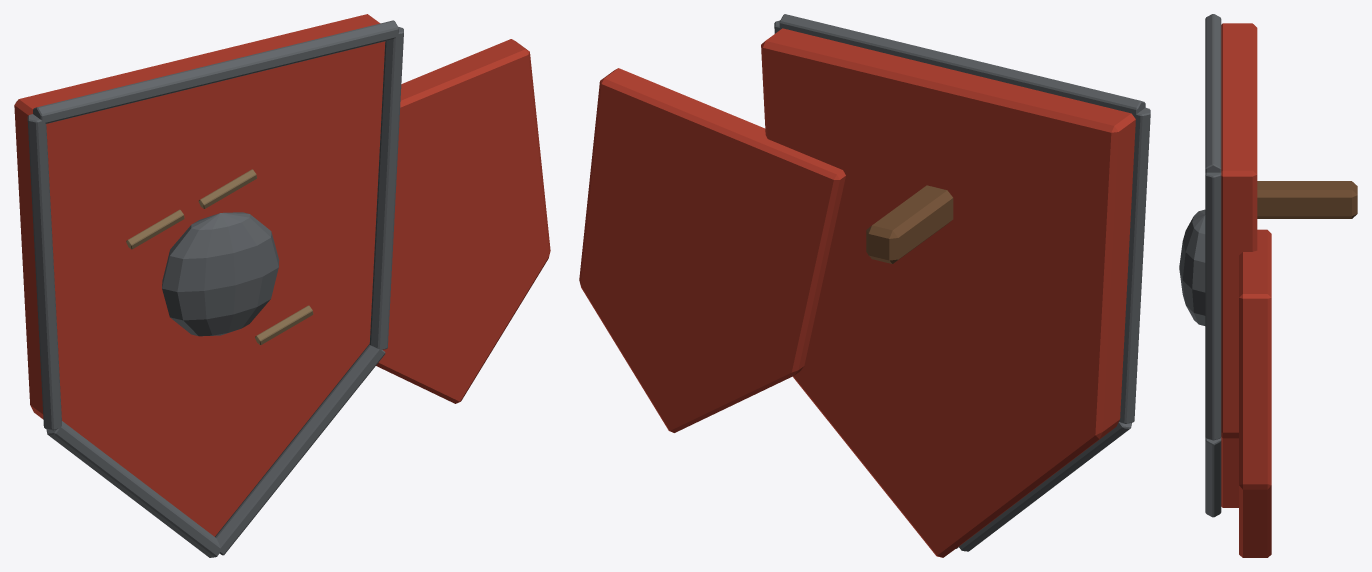
The model's file is runtime.glb.
3 renders of one model, left to right at view 1: azimuth 30°, elevation 25°; view 2: azimuth 150°, elevation 25°; view 3: azimuth 270°, elevation 25°, orthographic. The views are drawn at different scales.
Visible parts, largest first — view 1: falkenwacht-wall-shield-v10_nocol; view 2: falkenwacht-wall-shield-v10_nocol; view 3: falkenwacht-wall-shield-v10_nocol.
Part boxes in pixels (x1,y1,x2,y2): falkenwacht-wall-shield-v10_nocol: (14, 14, 550, 557); falkenwacht-wall-shield-v10_nocol: (579, 14, 1150, 557); falkenwacht-wall-shield-v10_nocol: (1179, 14, 1357, 557).
Bounding box in the file's own units: 1.84 × 1.6 × 0.6096.
